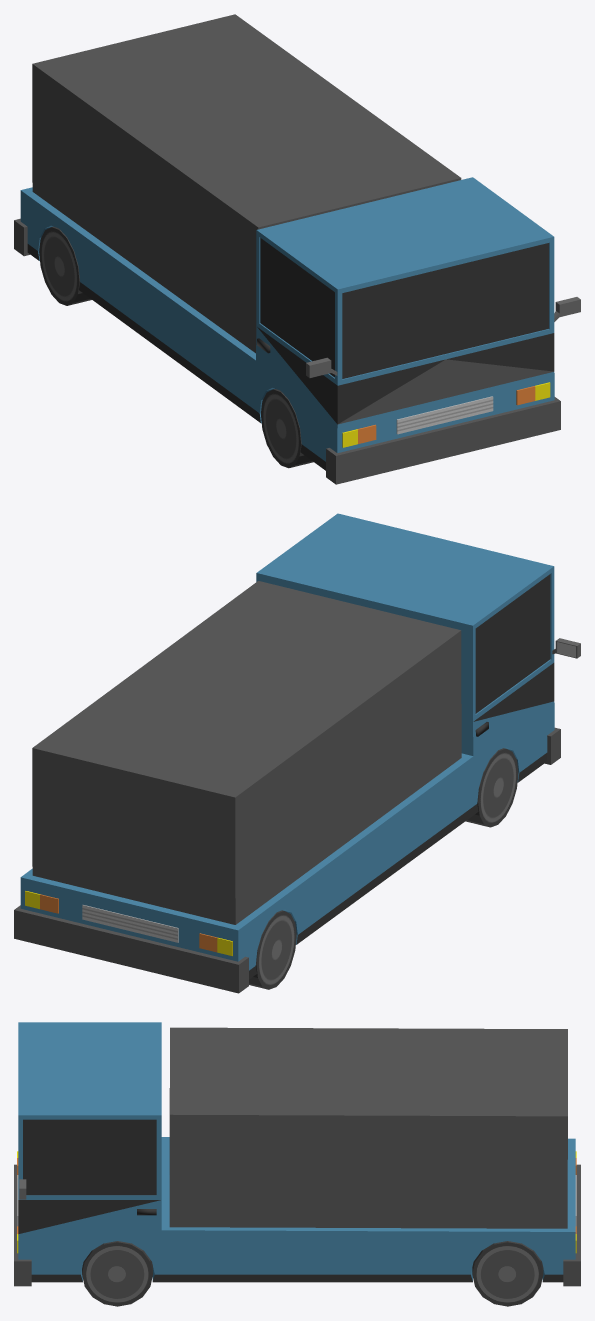
File: truck03_color01.fbx
3 renders of one model, top to bottom at view 1: azimuth 30°, elevation 25°; view 2: azimuth 150°, elevation 25°; view 3: azimuth 270°, elevation 25°, orthographic. The views are drawn at different scales.
Parts seen in each view (by area): view 1: Cube.202, Cube.369, Cube.301; view 2: Cube.202, Cube.301, Cube.369; view 3: Cube.202, Cube.367, Cube.368.
Part boxes in pixels (left/top/right/bottom): Cube.202: left=14, top=14, right=580, bottom=484; Cube.369: left=39, top=226, right=91, bottom=305; Cube.301: left=261, top=389, right=313, bottom=468; Cube.202: left=14, top=513, right=580, bottom=993; Cube.301: left=465, top=748, right=518, bottom=827; Cube.369: left=249, top=910, right=296, bottom=989; Cube.202: left=14, top=1022, right=580, bottom=1286; Cube.367: left=472, top=1241, right=543, bottom=1306; Cube.368: left=82, top=1241, right=152, bottom=1306.
Bounding box in the file's own units: 357 × 273 × 734.
